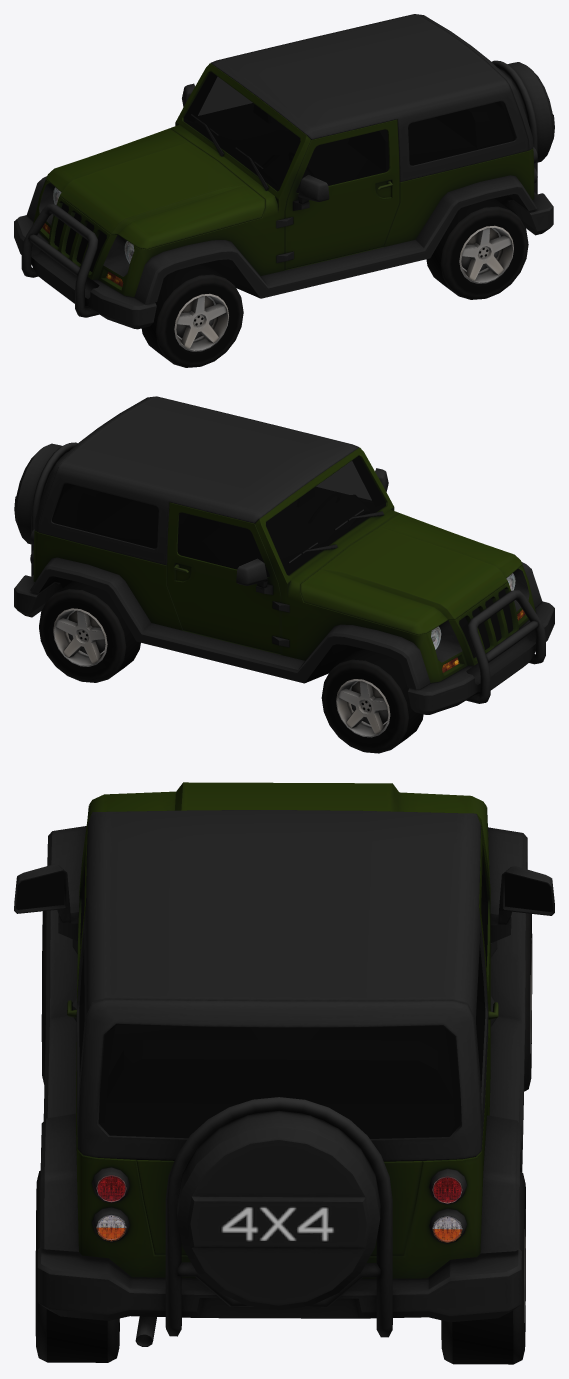
File: jeep.glb
3 renders of one model, top to bottom at view 1: azimuth 30°, elevation 25°; view 2: azimuth 150°, elevation 25°; view 3: azimuth 270°, elevation 25°, orthographic. The views are drawn at different scales.
Visible parts, largest first — view 1: Offroad Body_Body_0.001, Offroad Body_Glass_0.001, Wheel_G_Wheel_0.001, Wheel_G001_Wheel_0.003, Offroad Body_Optics_0.001; view 2: Offroad Body_Body_0.001, Offroad Body_Glass_0.001, Wheel_G001_Wheel_0.002, Wheel_G002_Wheel_0.001, Offroad Body_Optics_0.001; view 3: Offroad Body_Body_0.001, Offroad Body_Glass_0.001, Wheel_G002_Wheel_0.001, Wheel_G001_Wheel_0.003, Offroad Body_Optics_0.001, Wheel_G001_Wheel_0.002, Wheel_G_Wheel_0.001.
Part boxes in pixels (left/top/right/bottom): Offroad Body_Body_0.001: left=14, top=14, right=554, bottom=329; Offroad Body_Glass_0.001: left=183, top=72, right=515, bottom=192; Wheel_G_Wheel_0.001: left=141, top=264, right=243, bottom=367; Wheel_G001_Wheel_0.003: left=426, top=198, right=528, bottom=299; Offroad Body_Optics_0.001: left=42, top=187, right=134, bottom=286; Offroad Body_Body_0.001: left=14, top=396, right=554, bottom=714; Offroad Body_Glass_0.001: left=52, top=456, right=385, bottom=576; Wheel_G001_Wheel_0.002: left=321, top=649, right=423, bottom=753; Wheel_G002_Wheel_0.001: left=39, top=581, right=140, bottom=682; Offroad Body_Optics_0.001: left=431, top=573, right=525, bottom=672; Offroad Body_Body_0.001: left=14, top=782, right=554, bottom=1346; Offroad Body_Glass_0.001: left=79, top=857, right=487, bottom=1138; Wheel_G002_Wheel_0.001: left=441, top=1172, right=525, bottom=1364; Wheel_G001_Wheel_0.003: left=35, top=1170, right=119, bottom=1362; Offroad Body_Optics_0.001: left=96, top=1175, right=462, bottom=1242; Wheel_G001_Wheel_0.002: left=524, top=913, right=532, bottom=1091; Wheel_G_Wheel_0.001: left=41, top=911, right=46, bottom=1084.
Bounding box in the file's own units: 3.95 × 1.57 × 1.96.
4 materials, 3 textured.
